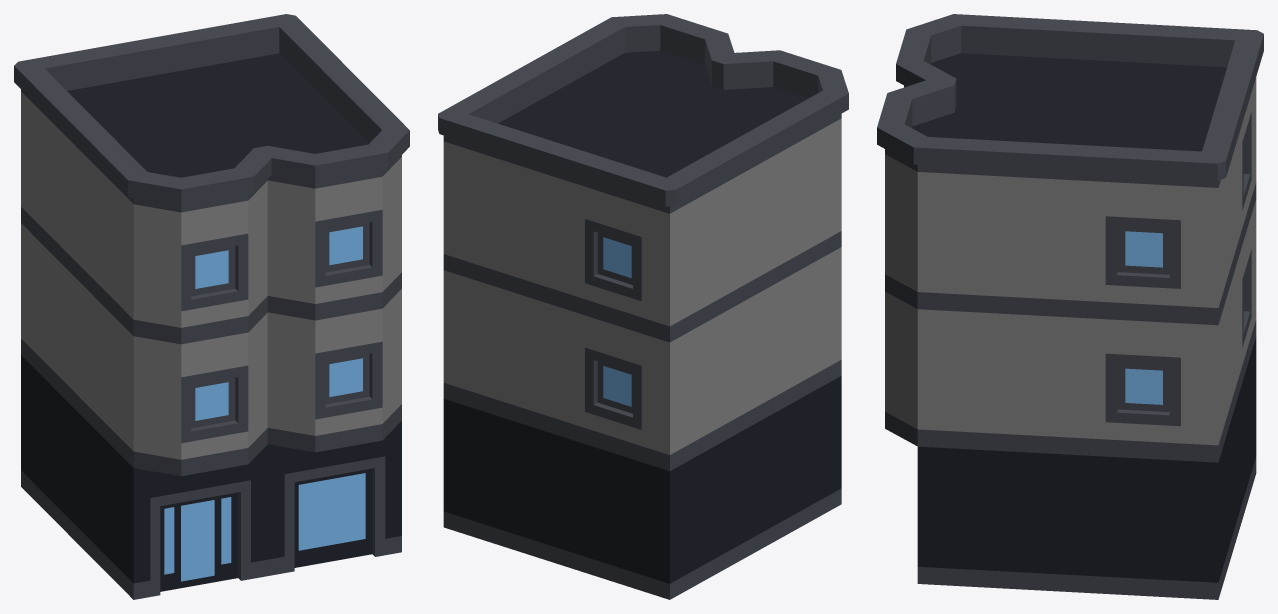
Rendered from variant_24.obj.
3 views of the same model, side by side, from view 1: azimuth 30°, elevation 25°; view 2: azimuth 150°, elevation 25°; view 3: azimuth 270°, elevation 25° (orthographic). The views are drawn at different scales.
Visible parts, largest first — view 1: small_buildingA; view 2: small_buildingA; view 3: small_buildingA.
Part boxes in pixels (box(x1,y1,x2,y2)): small_buildingA: box(14, 14, 409, 599); small_buildingA: box(438, 14, 848, 599); small_buildingA: box(877, 14, 1263, 599).
Size of the model in its own units: 0.9347 by 1.28 by 1.02.
